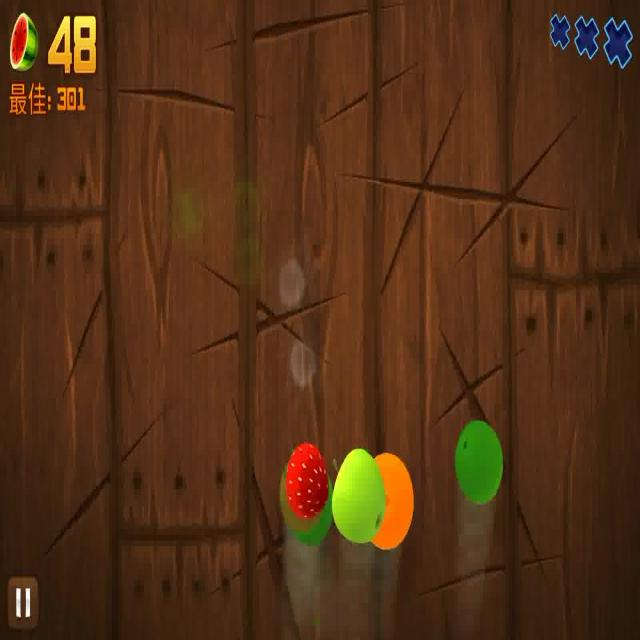fruit: (329, 453, 386, 538), (369, 450, 416, 550), (456, 422, 503, 506), (286, 442, 328, 521)
